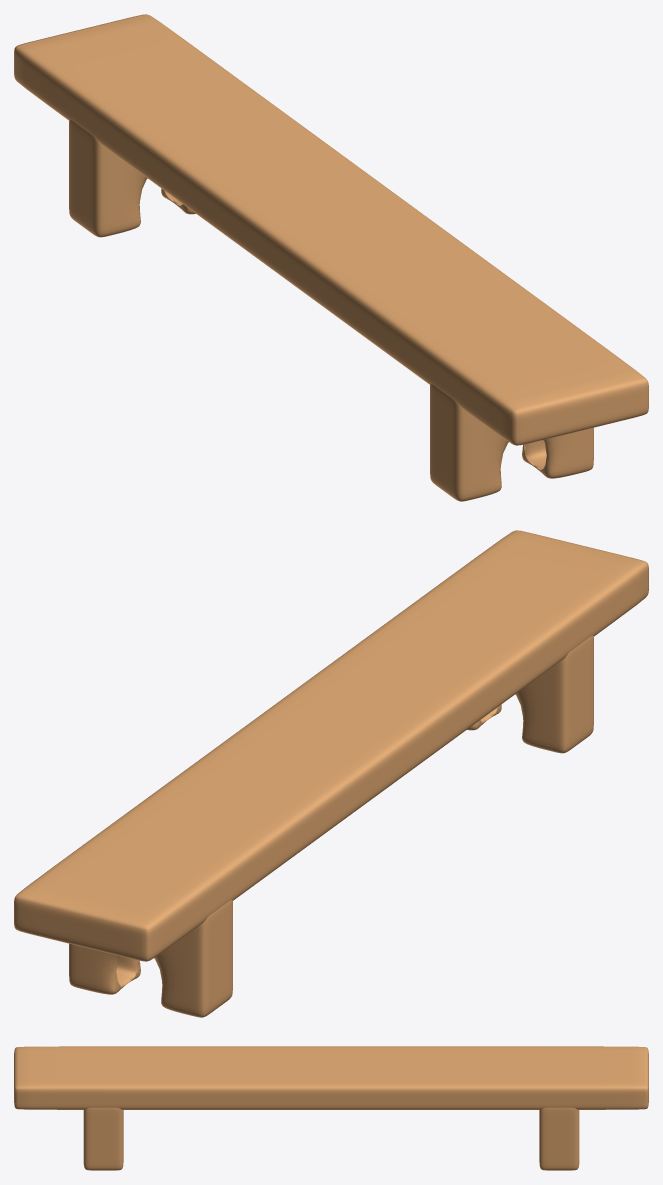
Rendered from monitorstand1.glb.
3 renders of one model, top to bottom at view 1: azimuth 30°, elevation 25°; view 2: azimuth 150°, elevation 25°; view 3: azimuth 270°, elevation 25°, orthographic. The views are drawn at different scales.
Visible parts, largest first — view 1: wall.006; view 2: wall.006; view 3: wall.006.
Part boxes in pixels (x1=…): wall.006: x1=14, y1=14, x2=648, y2=501; wall.006: x1=14, y1=530, x2=648, y2=1017; wall.006: x1=14, y1=1046, x2=648, y2=1170.
Bounding box in the file's own units: 0.1732 × 0.1613 × 1.09.
